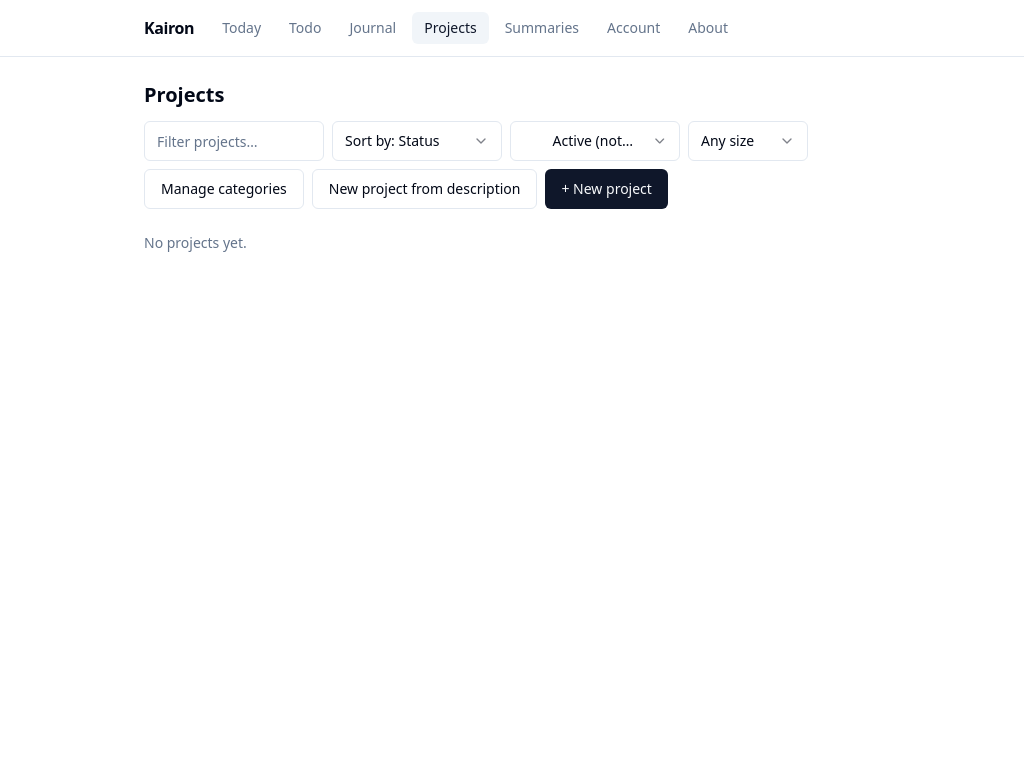
Test: dismissing the review discards the plan without creating a project
Click the button "New project from description": {"x": 425, "y": 189} left=312, top=169, right=538, bottom=209
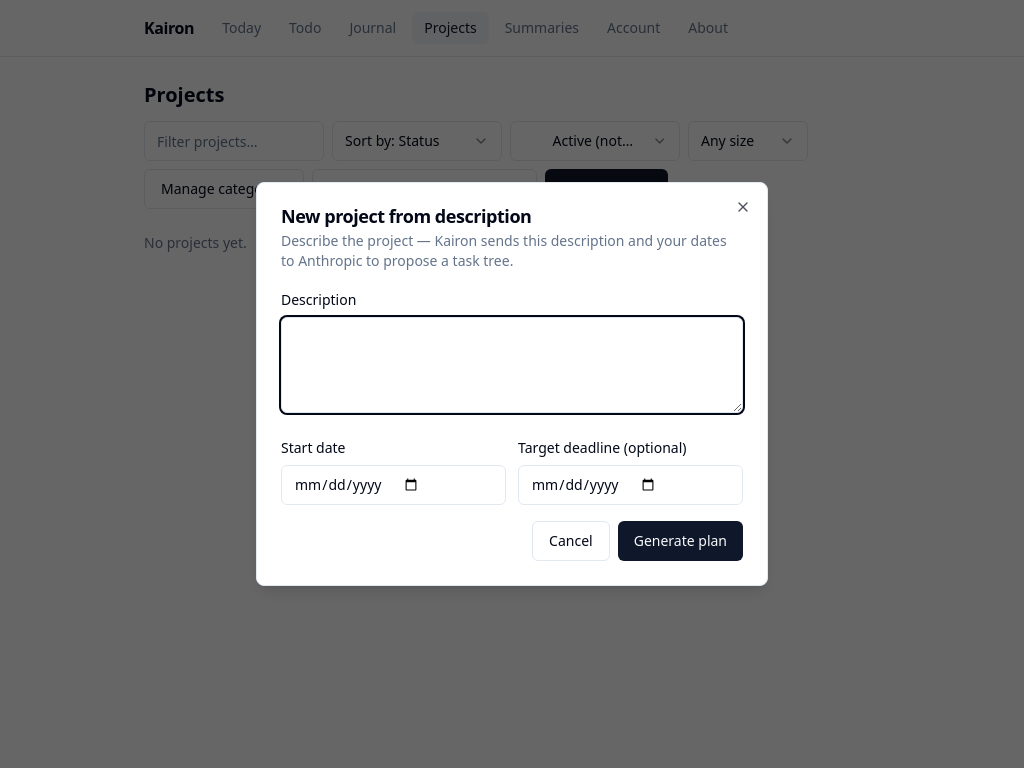
In the text box labelled "Description": {"x": 512, "y": 365} left=281, top=317, right=743, bottom=413, type "Kitchen remodel"
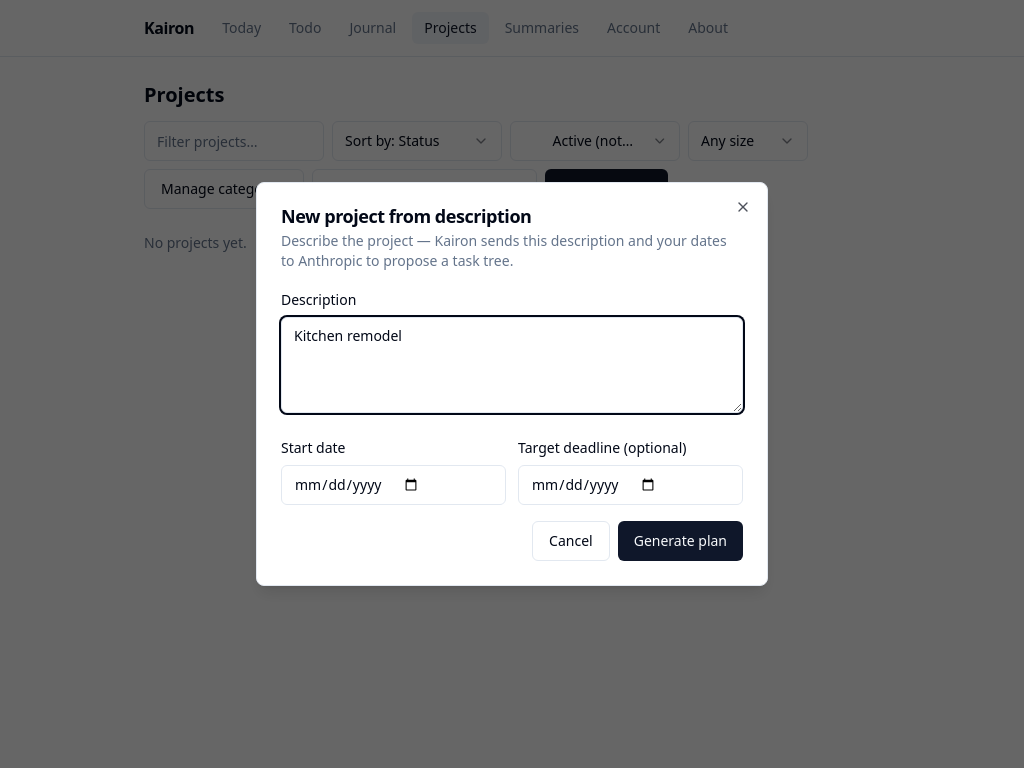
In the date field labelled "Start date": {"x": 394, "y": 485} left=281, top=465, right=506, bottom=505, type "2026-10-01"
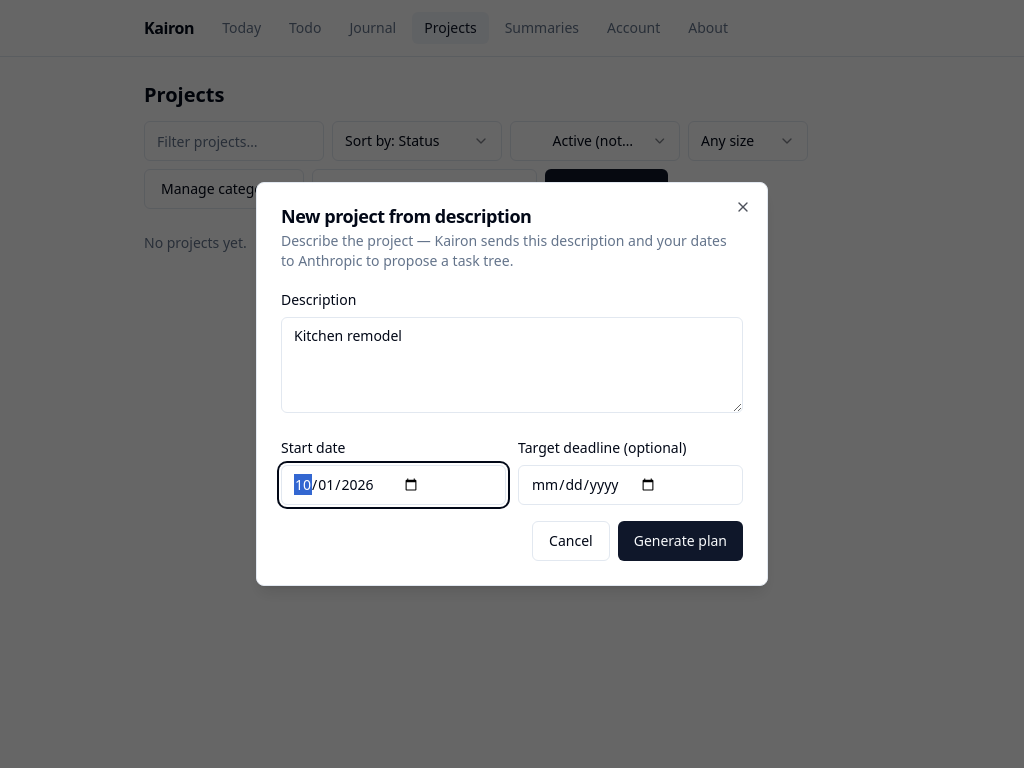
Click the button "Generate plan": {"x": 680, "y": 541} left=618, top=521, right=743, bottom=561
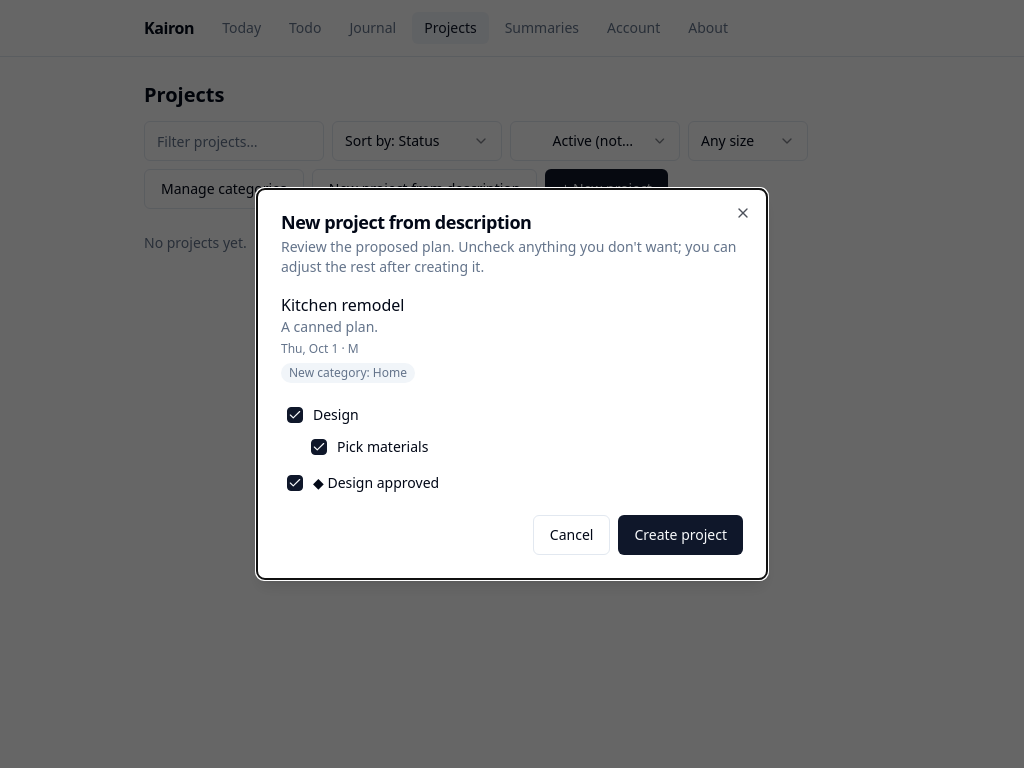
Click the button "Cancel": {"x": 572, "y": 535} left=533, top=515, right=610, bottom=555
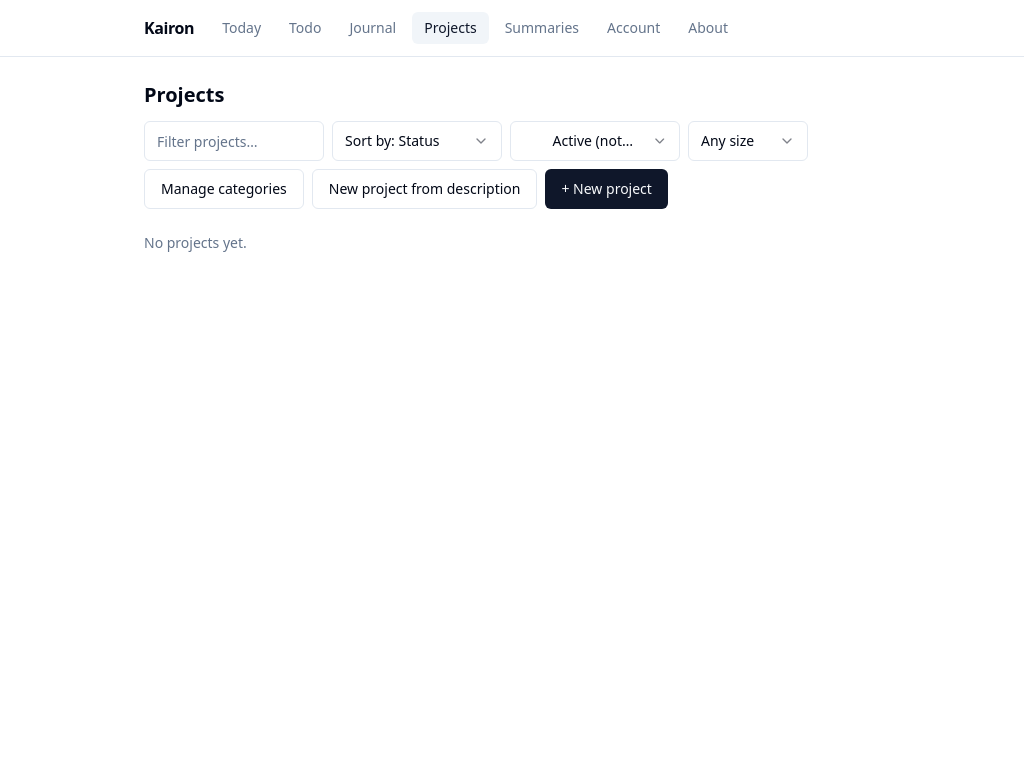
Expected: the text "Kitchen remodel" is gone
